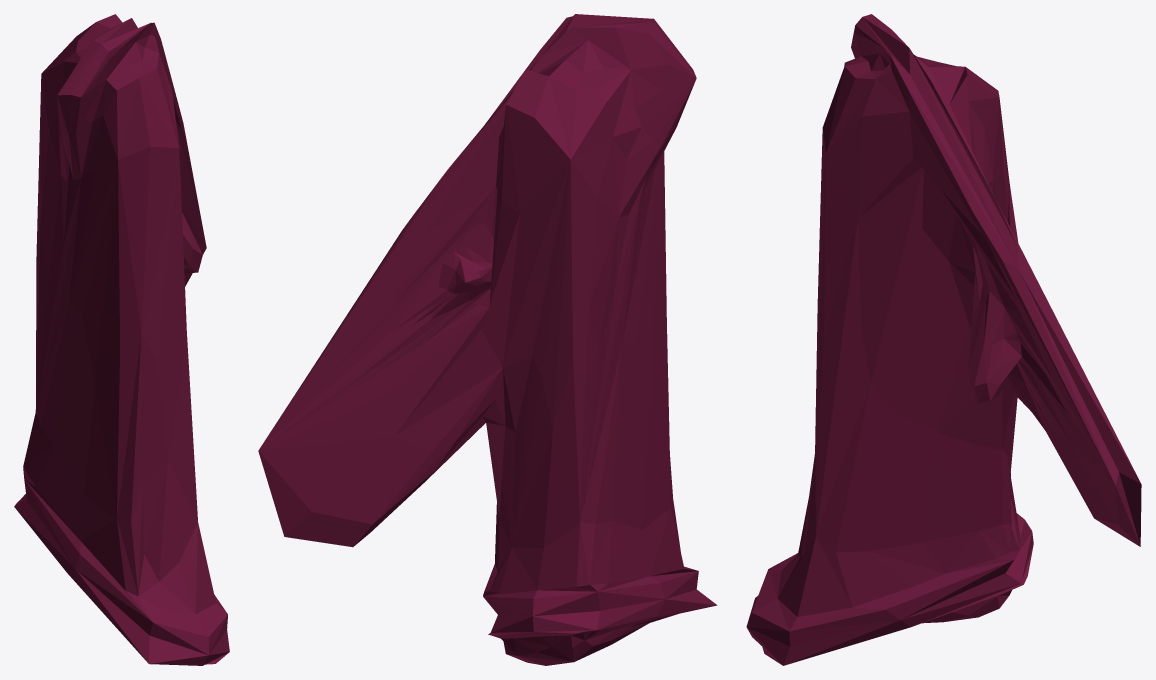
The picture shows the model from 3 angles, left to right: view 1: azimuth 30°, elevation 25°; view 2: azimuth 150°, elevation 25°; view 3: azimuth 270°, elevation 25°; orthographic projection. The views are drawn at different scales.
Parts seen in each view (by area): view 1: 497_Cube.2012; view 2: 497_Cube.2012; view 3: 497_Cube.2012.
Part boxes in pixels (left/top/right/bottom): 497_Cube.2012: left=14, top=14, right=229, bottom=665; 497_Cube.2012: left=258, top=14, right=717, bottom=665; 497_Cube.2012: left=746, top=14, right=1141, bottom=665.
Size of the model in its own units: 6.32 by 13.32 by 7.87.
